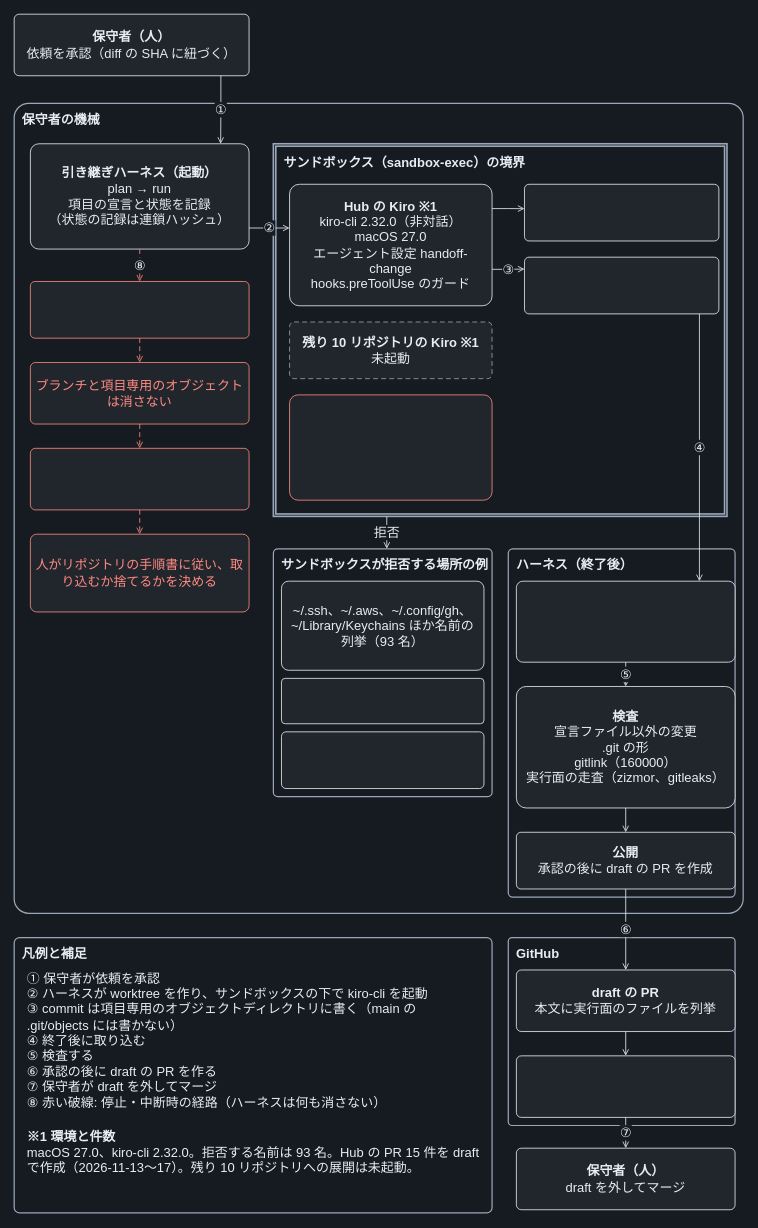
Image size: 758x1228. Some labels were removed from this diagram. The shapes that lost their labels are listed below. From the top down, each one's box as (x1, y1, x2, y2) in pixels, then its label:
(524, 183, 719, 241): 項目専用の worktree handoff/<item>
(524, 256, 719, 314): 項目専用の オブジェクトディレクトリ
(30, 281, 249, 338): 停止・中断・起動失敗 状態は failed
(289, 394, 492, 500): 既知の限界 MCP サーバー（15 本）は境界の中でも起動する。トークンを持つものは外へ出られる
(30, 448, 249, 510): 次の実行は、残ったブランチを理由に保留（dangling_branch_ref）
(516, 580, 735, 662): 取り込み unpack-objects --strict 完了は commit と差分で判定
(281, 678, 484, 724): リンク先（同期フォルダ）
(281, 731, 484, 789): 他の worktree と main の .git/objects
(516, 1055, 735, 1117): Hub の CI SHA ピンのワークフロー、zizmor、gitleaks
